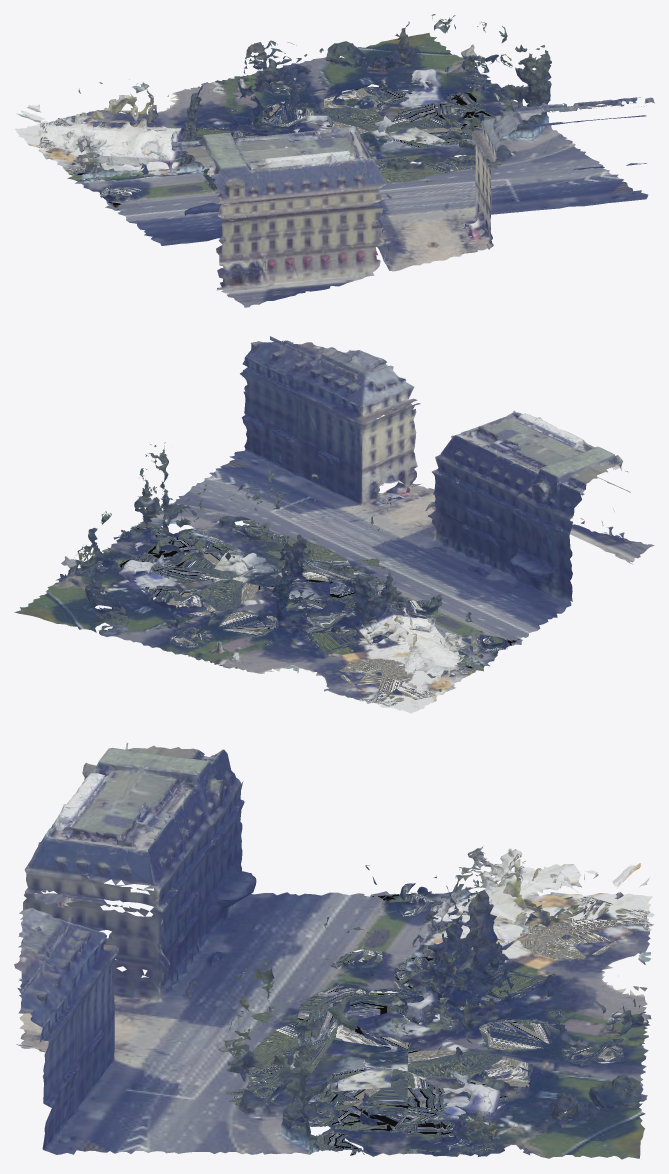
The picture shows the model from 3 angles, top to bottom: view 1: azimuth 30°, elevation 25°; view 2: azimuth 150°, elevation 25°; view 3: azimuth 270°, elevation 25°; orthographic projection. The views are drawn at different scales.
Size of the model in its own units: 104 by 29.37 by 104.
Materials: 1 (1 with a texture image).
